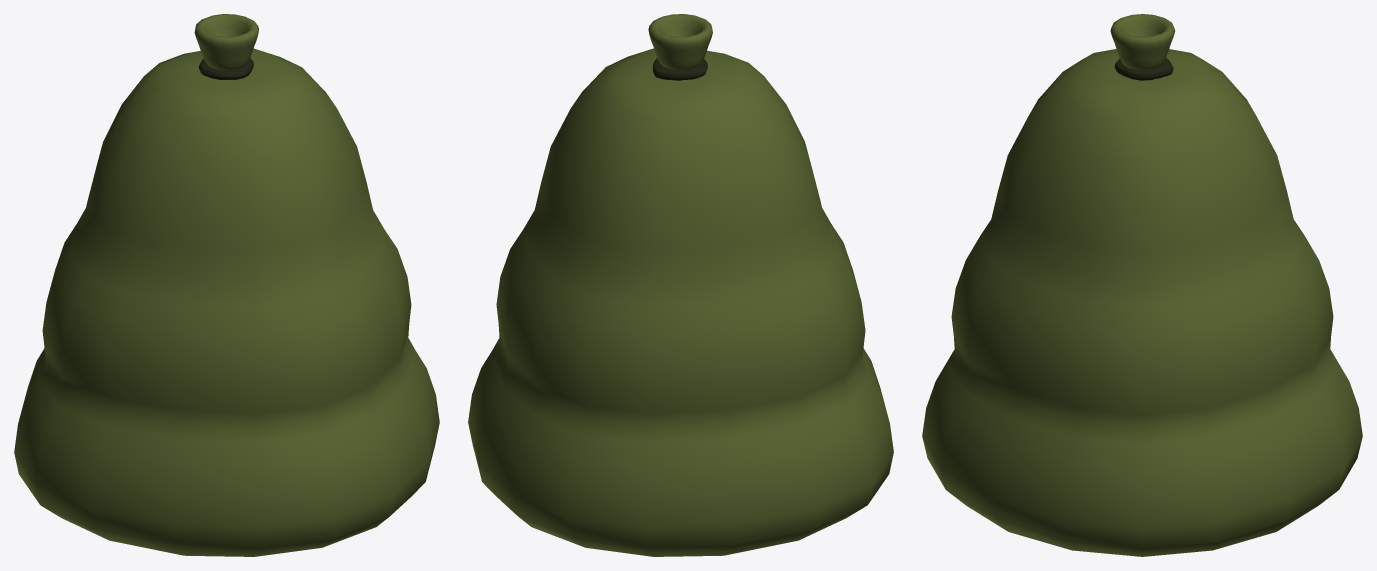
File: BolsaV_01.fbx
3 renders of one model, left to right at view 1: azimuth 30°, elevation 25°; view 2: azimuth 150°, elevation 25°; view 3: azimuth 270°, elevation 25°, orthographic.
Visible parts, largest first — view 1: BolsaV_01; view 2: BolsaV_01; view 3: BolsaV_01.
Part boxes in pixels (x1,y1,x2,y2): BolsaV_01: [14, 14, 439, 556]; BolsaV_01: [468, 14, 893, 556]; BolsaV_01: [922, 14, 1362, 556].
Bounding box in the file's own units: 74.63 × 90.1 × 74.63.
